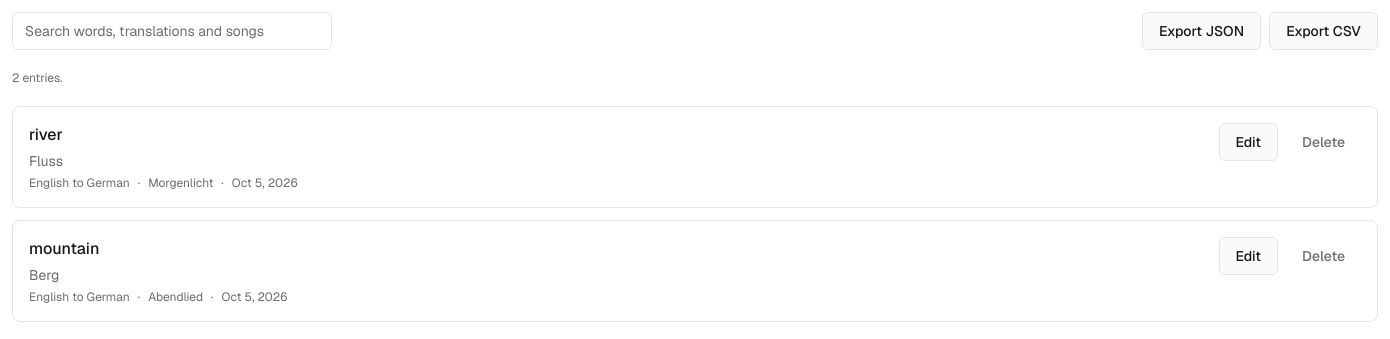
Test case: VocabularyList › search › says so when nothing matches
The image size is (1390, 339).
Check: the number of list items is 2, box left=12, top=106, right=1378, bottom=208; left=12, top=220, right=1378, bottom=322
Type "nothingmatches" into the search field named "Search vocabulary" at [172, 31], box left=12, top=12, right=332, bottom=50
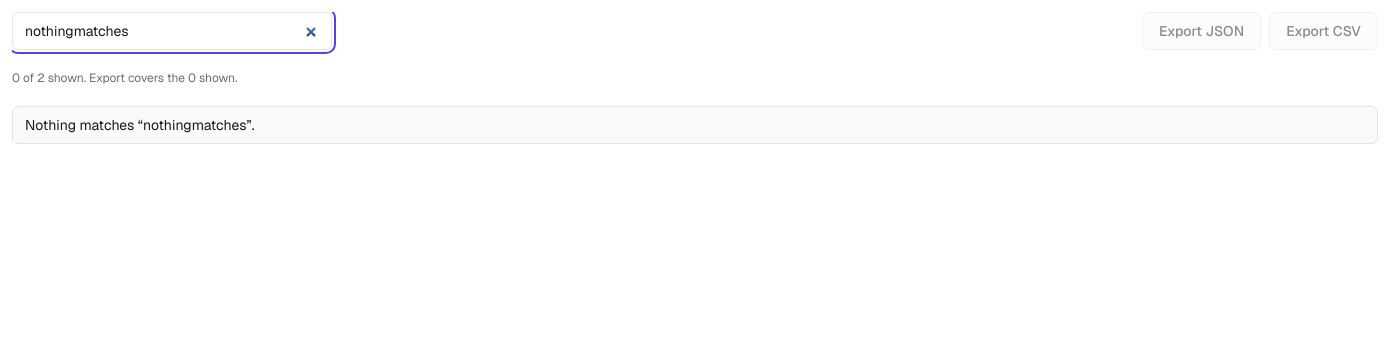
Check: the text "Nothing matches “nothingmatches”." is shown, box left=12, top=106, right=1378, bottom=144
